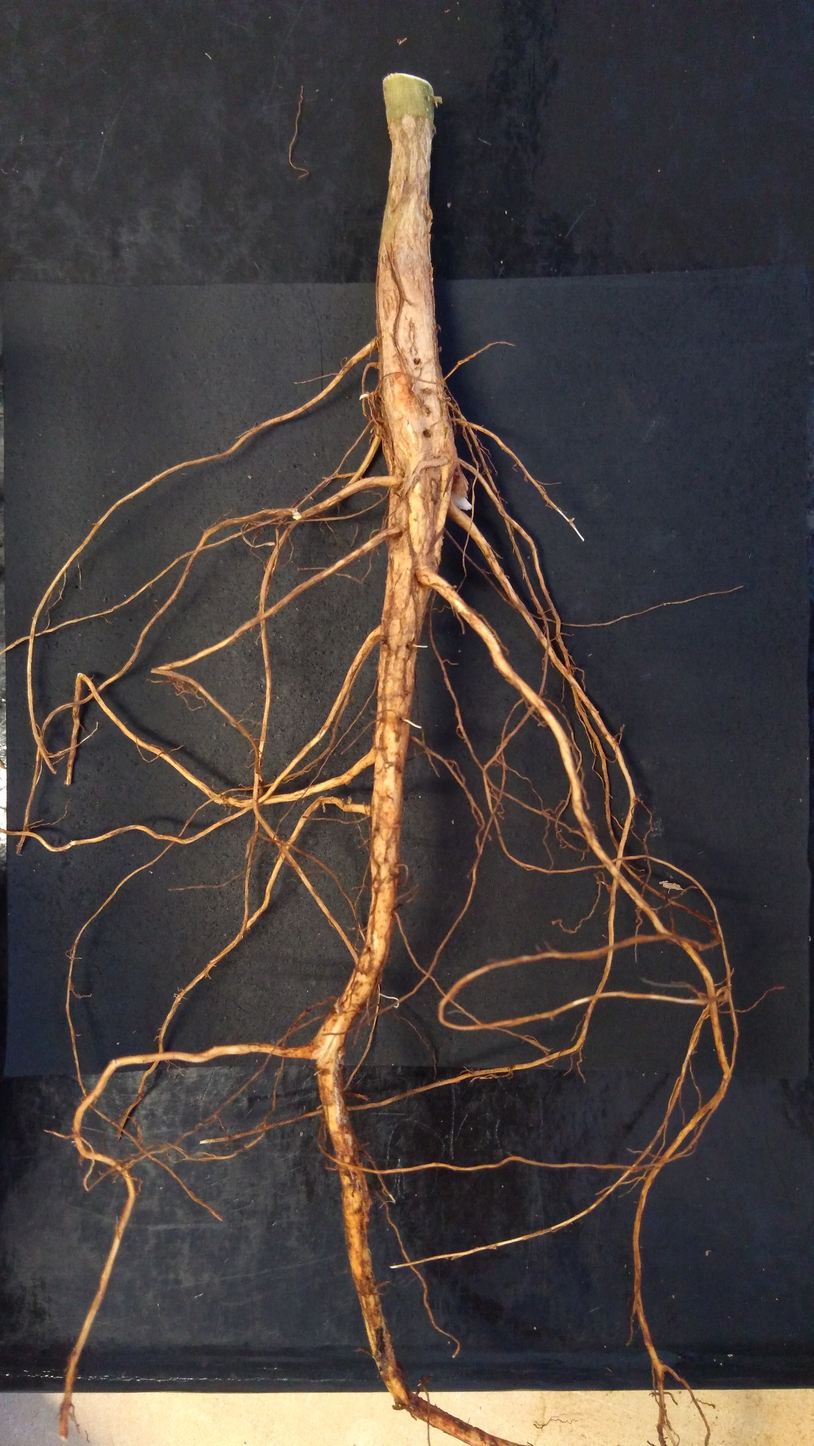nodule: (359, 391, 376, 401), (292, 510, 302, 520)
